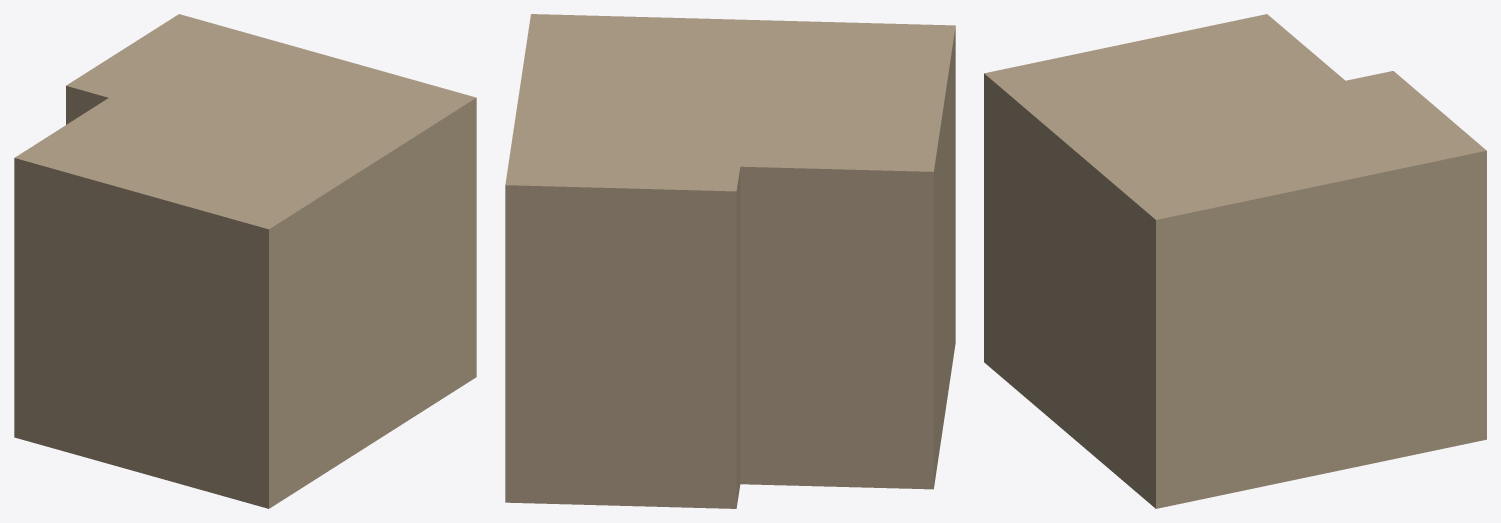
The model's file is bld_107625374.dae.
3 renders of one model, left to right at view 1: azimuth 30°, elevation 25°; view 2: azimuth 150°, elevation 25°; view 3: azimuth 270°, elevation 25°, orthographic. The views are drawn at different scales.
Visible parts, largest first — view 1: bld_107625374; view 2: bld_107625374; view 3: bld_107625374.
Part boxes in pixels (bbox=[...]): bld_107625374: bbox=[14, 14, 476, 508]; bld_107625374: bbox=[505, 14, 955, 508]; bld_107625374: bbox=[984, 14, 1486, 508].
Bounding box in the file's own units: 12.23 × 12.62 × 8.
